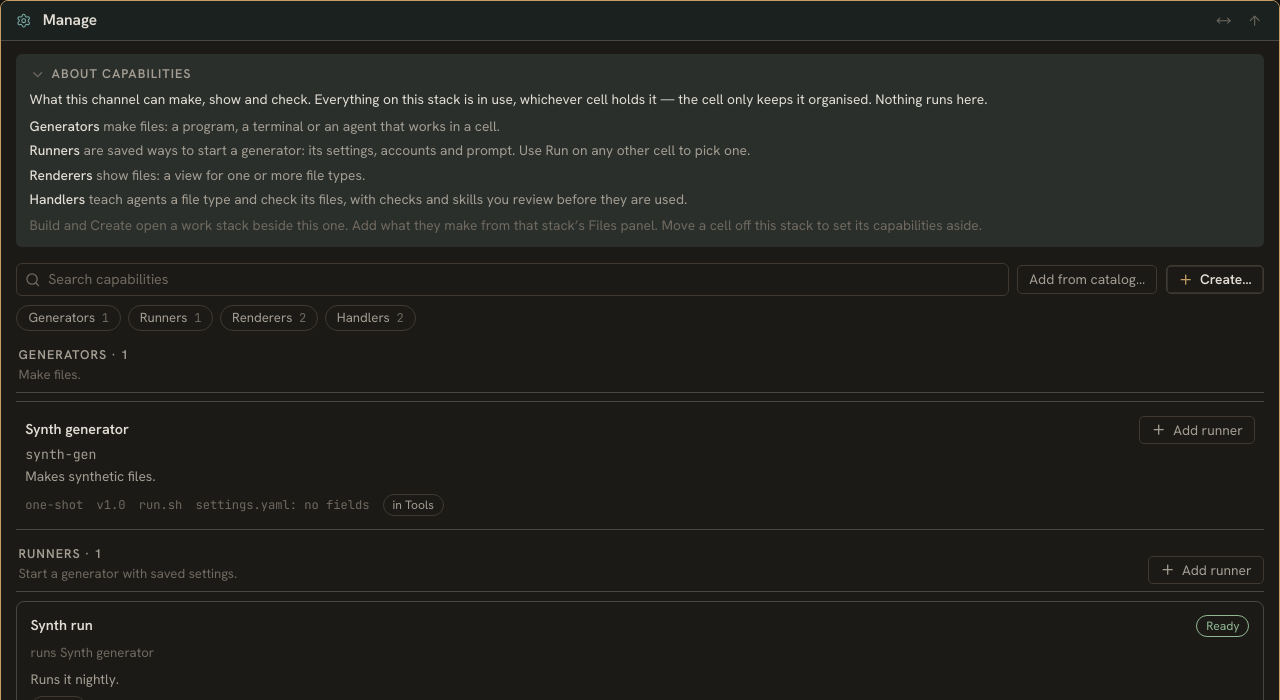
The Capabilities manage card › says what the stack is, open until folded
Expected: the element "About Capabilities" shows "What this channel can make, show and check. Everything on this stack is in use, whichever cell holds it — the cell only keeps it organised. Nothing runs here.", [30,90,988,108]
Expected: the element "About Capabilities" shows "Generators make files: a program, a terminal or an agent that works in a cell.", [16,54,1264,247]
Click the button "About Capabilities": click(111, 74) [30,65,192,84]
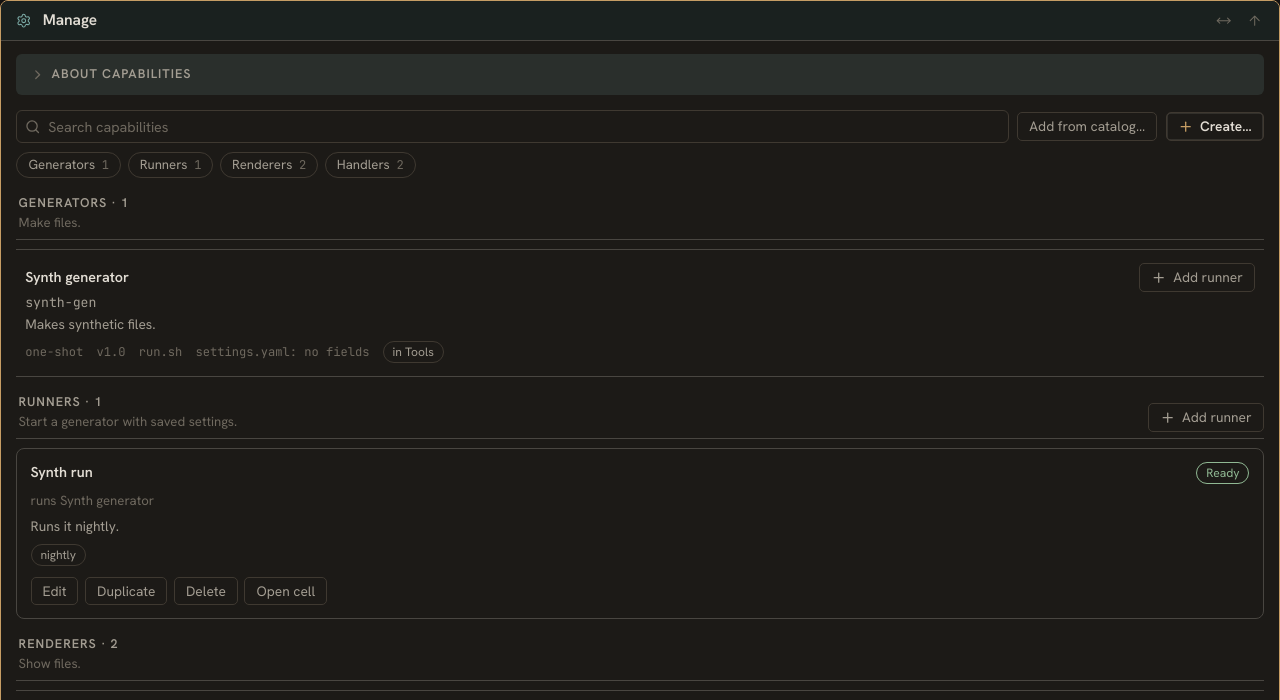
Result: the element "About Capabilities" no longer shows "Nothing runs here." at [16,54,1264,95]
